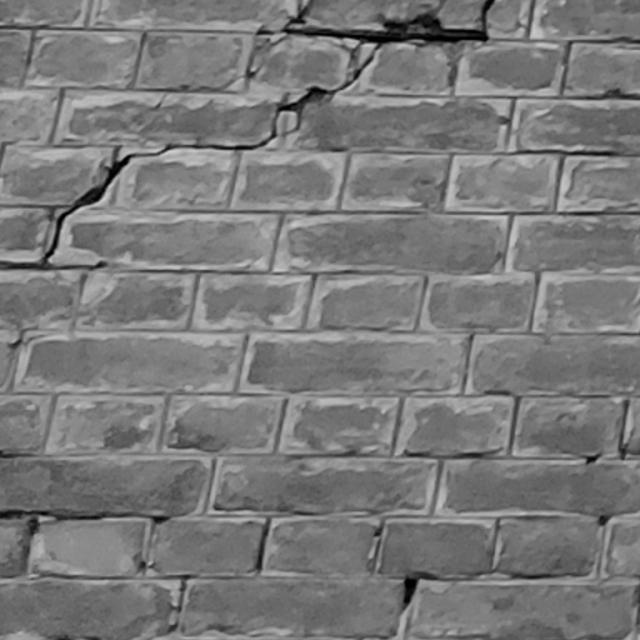crack: (1, 1, 492, 270)
